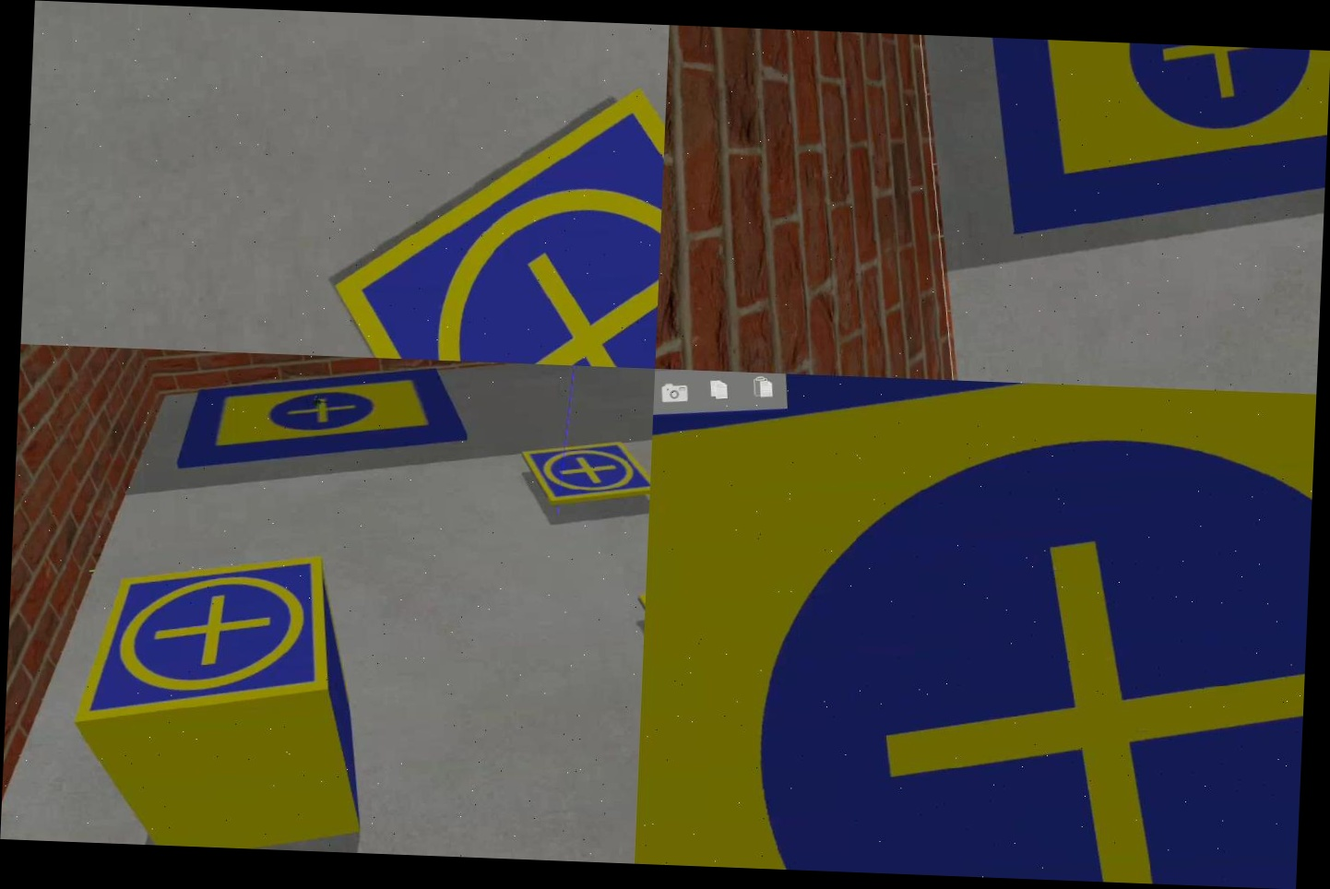large_base: (635, 369, 1315, 889), (966, 37, 1330, 247), (168, 357, 474, 480)
small_base: (314, 57, 668, 369), (56, 542, 337, 734), (519, 435, 652, 510)
